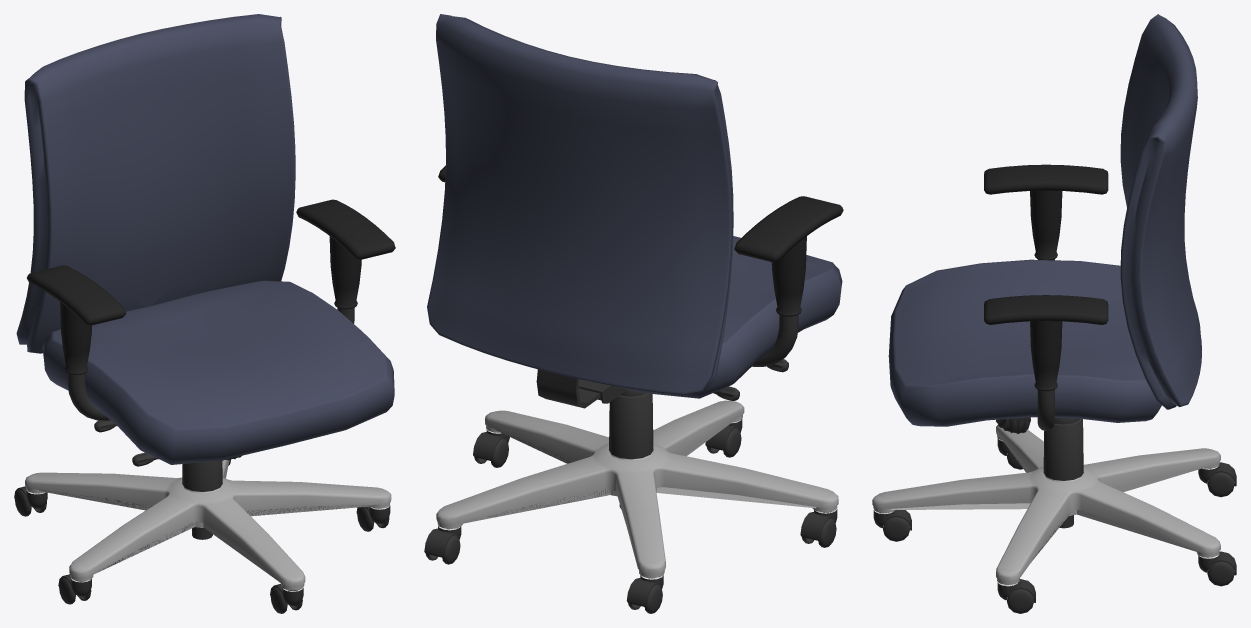
The model's file is chair.dae.
The picture shows the model from 3 angles, left to right: view 1: azimuth 30°, elevation 25°; view 2: azimuth 150°, elevation 25°; view 3: azimuth 270°, elevation 25°; orthographic projection. The views are drawn at different scales.
Parts seen in each view (by area): view 1: SketchUp (×11); view 2: SketchUp (×15); view 3: SketchUp (×15).
Boxes of the visible parts, left/top/right/bottom form: SketchUp (×11): left=16, top=14, right=395, bottom=587; SketchUp (×15): left=424, top=14, right=843, bottom=606; SketchUp (×15): left=872, top=14, right=1234, bottom=613.
Bounding box in the file's own units: 26.87 × 26.66 × 37.7.
